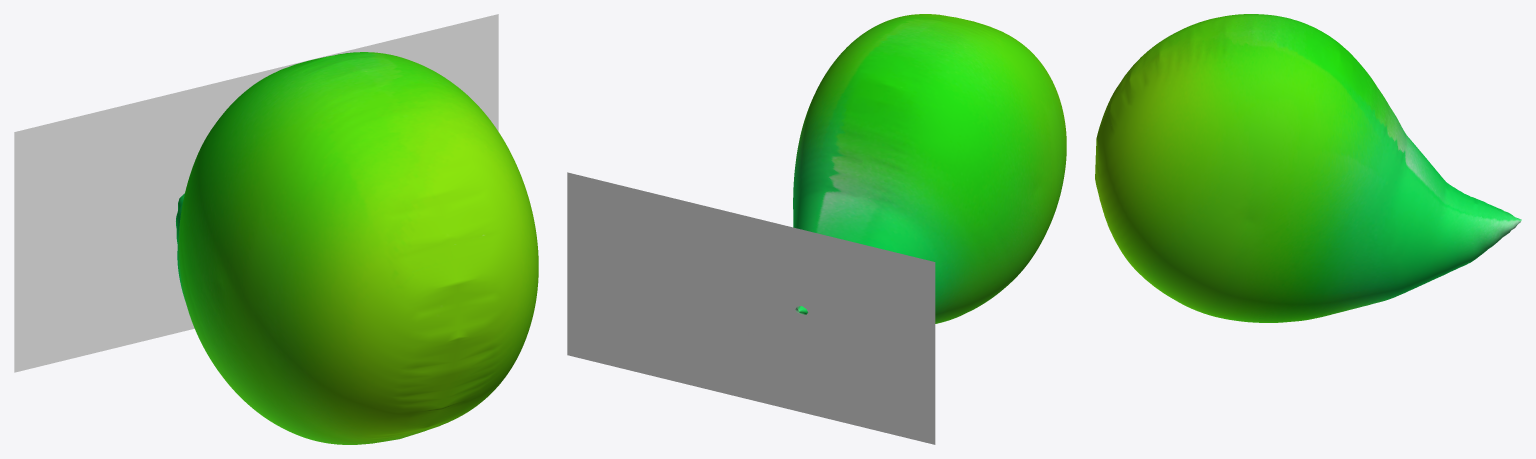
The model's file is stain.fbx.
3 renders of one model, left to right at view 1: azimuth 30°, elevation 25°; view 2: azimuth 150°, elevation 25°; view 3: azimuth 270°, elevation 25°, orthographic. The views are drawn at different scales.
Visible parts, largest first — view 1: node_id131, node_id45; view 2: node_id45, node_id131; view 3: node_id131.
Part boxes in pixels (x1=…): node_id131: x1=176, y1=52, x2=538, y2=444; node_id45: x1=14, y1=14, x2=498, y2=372; node_id45: x1=567, y1=172, x2=935, y2=444; node_id131: x1=793, y1=14, x2=1066, y2=323; node_id131: x1=1095, y1=14, x2=1521, y2=322.
Size of the model in its own units: 0.512 by 0.3856 by 0.4996.
2 materials, 2 textured.
